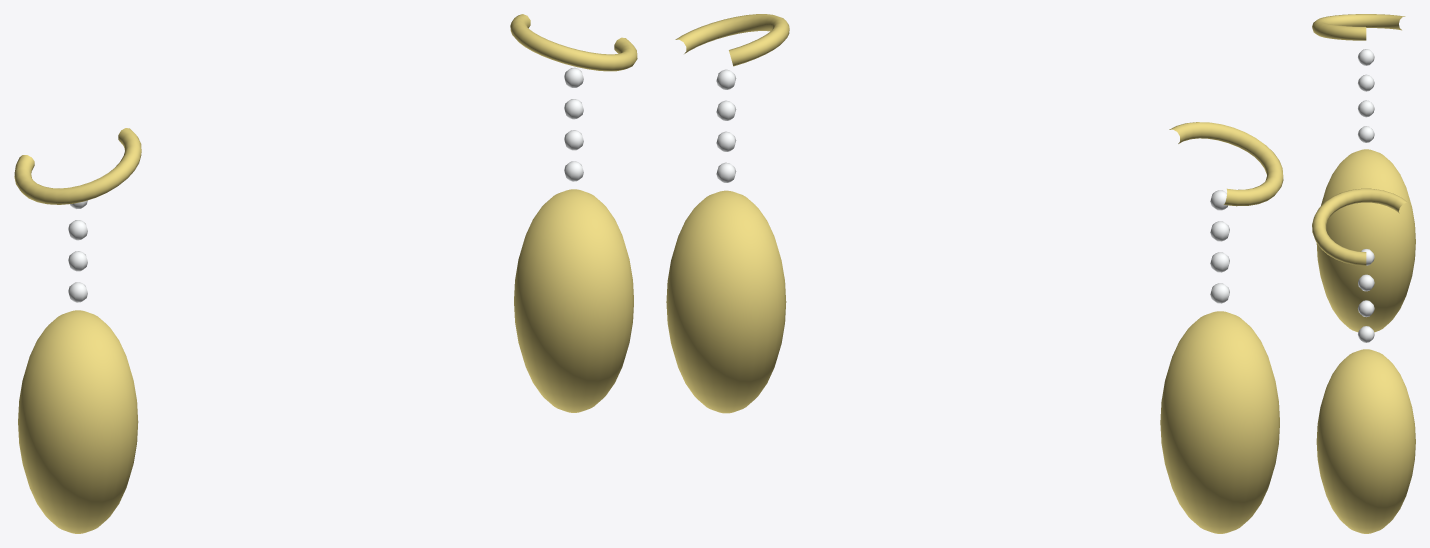
Rendered from earrings.glb.
3 renders of one model, left to right at view 1: azimuth 30°, elevation 25°; view 2: azimuth 150°, elevation 25°; view 3: azimuth 270°, elevation 25°, orthographic. The views are drawn at different scales.
Visible parts, largest first — view 1: earring_body_metal, earring_diamond_stone; view 2: earring_body_metal, earring_diamond_stone; view 3: earring_body_metal, earring_diamond_stone.
Boxes of the visible parts, x1,y1,x2,y2 form: earring_body_metal: (14, 14, 637, 533); earring_diamond_stone: (68, 67, 583, 302); earring_body_metal: (666, 14, 1283, 533); earring_diamond_stone: (716, 69, 1229, 303); earring_body_metal: (1312, 14, 1415, 533); earring_diamond_stone: (1358, 49, 1374, 342).
Bounding box in the file's own units: 1.22 × 0.7546 × 0.2198.
